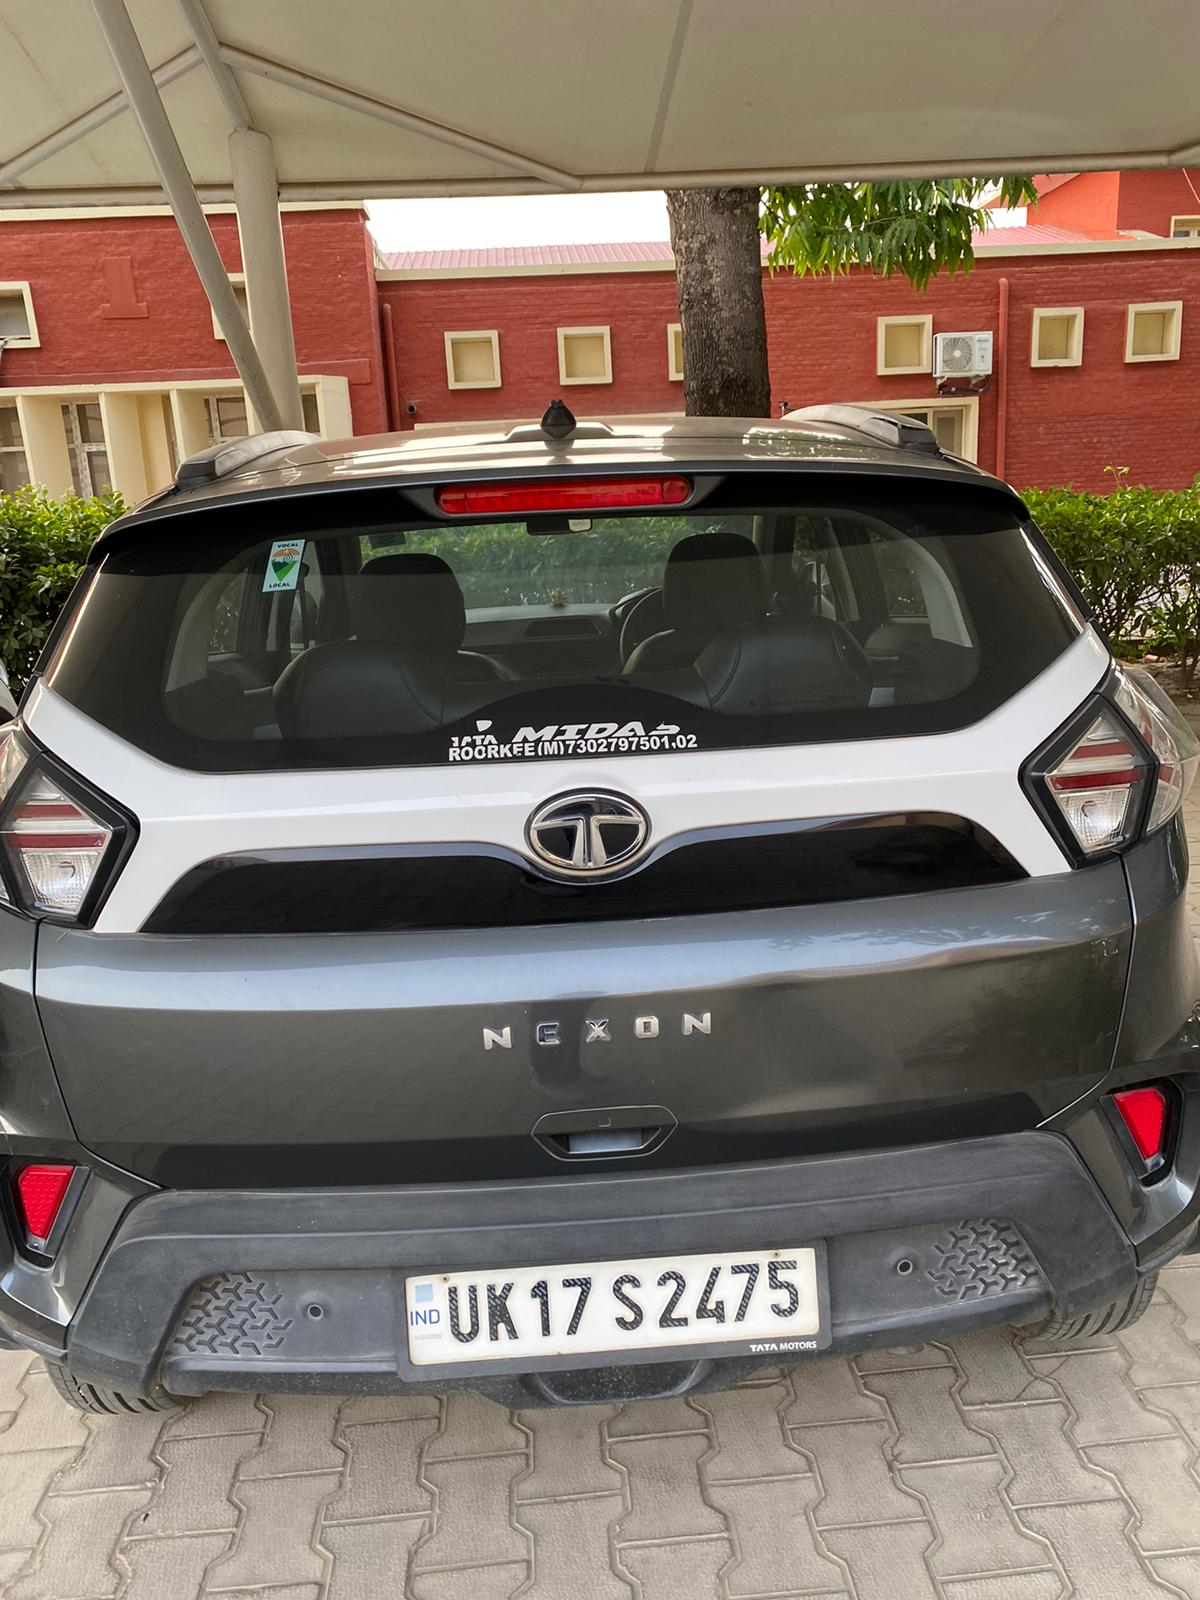license plate: (405, 1246, 824, 1367)
